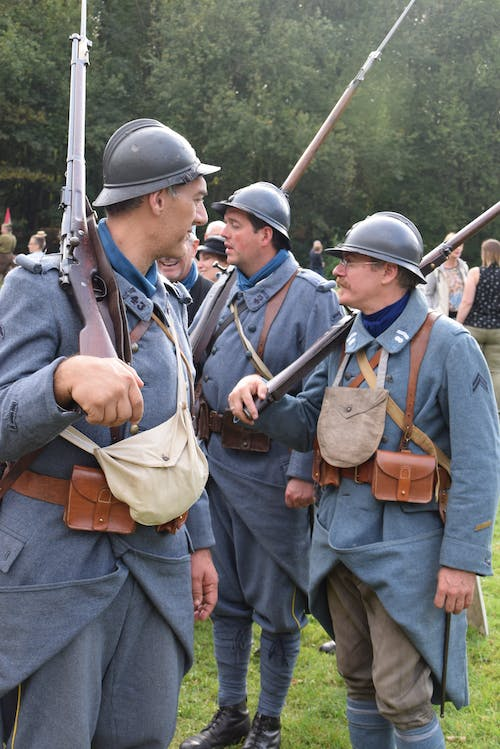gun: (183, 0, 419, 363), (229, 199, 500, 428), (55, 0, 120, 361)
